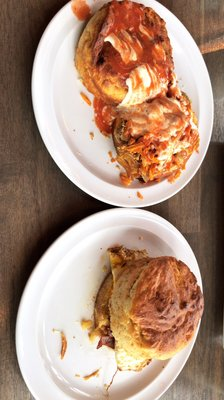sushi: (15, 206, 209, 400)
